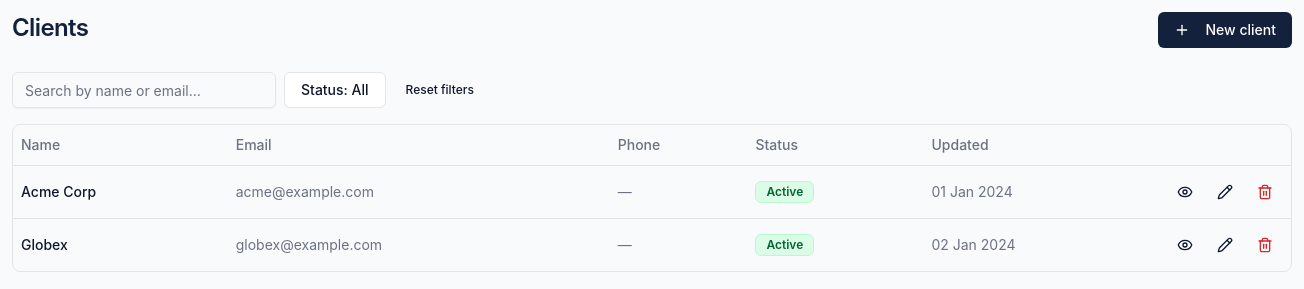
Scenario: ClientsPage › clear-button-appears: X button is visible when search is non-empty, hidden when empty
The width and height of the screenshot is (1304, 289).
Note: Type something — clear button appears
Type "Acme" into the search field with test id "search-input".
click(144, 90); type("Acme")  # box x1=12 y1=72 x2=276 y2=108
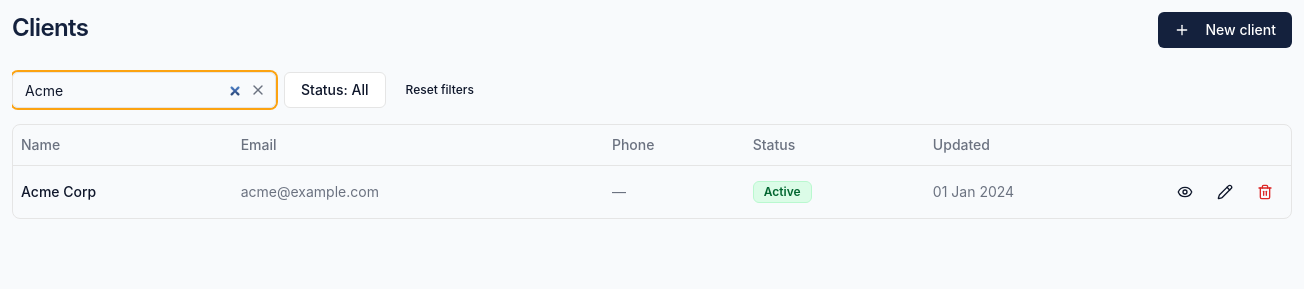
Now the button with test id "btn-clear-search" is shown
Note: Click clear — button disappears
Click the button with test id "btn-clear-search".
click(258, 90)  # box x1=248 y1=80 x2=268 y2=100
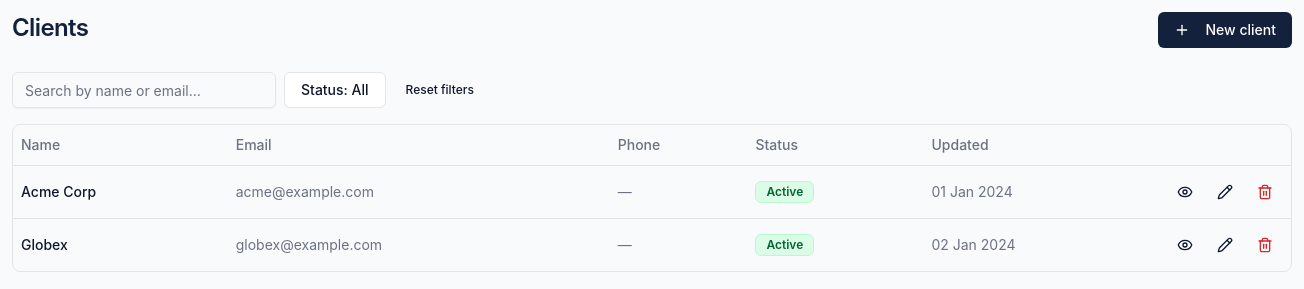
Now the button with test id "btn-clear-search" is gone
Now the search field with test id "search-input" is empty, box x1=12 y1=72 x2=276 y2=108
